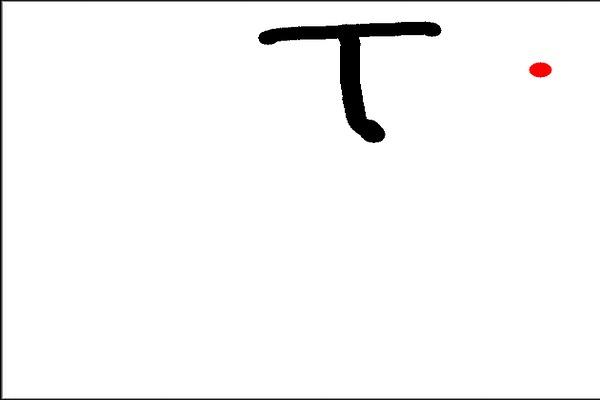T: (252, 19, 445, 145)
